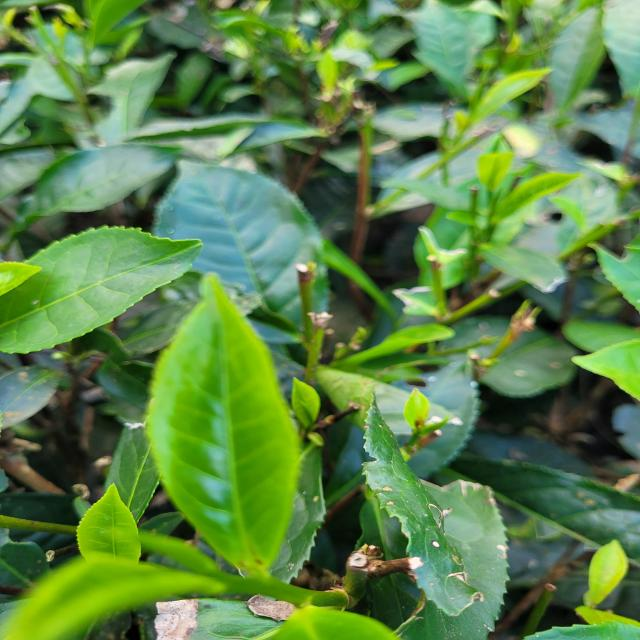Catagory A(1-2 days): (142, 273, 336, 592)
